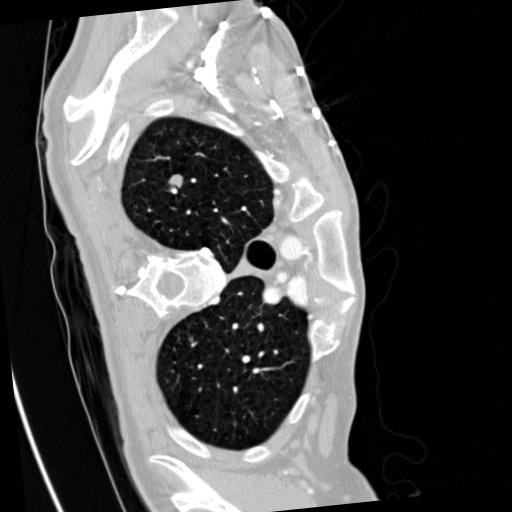nodule: (167, 171, 188, 192)
